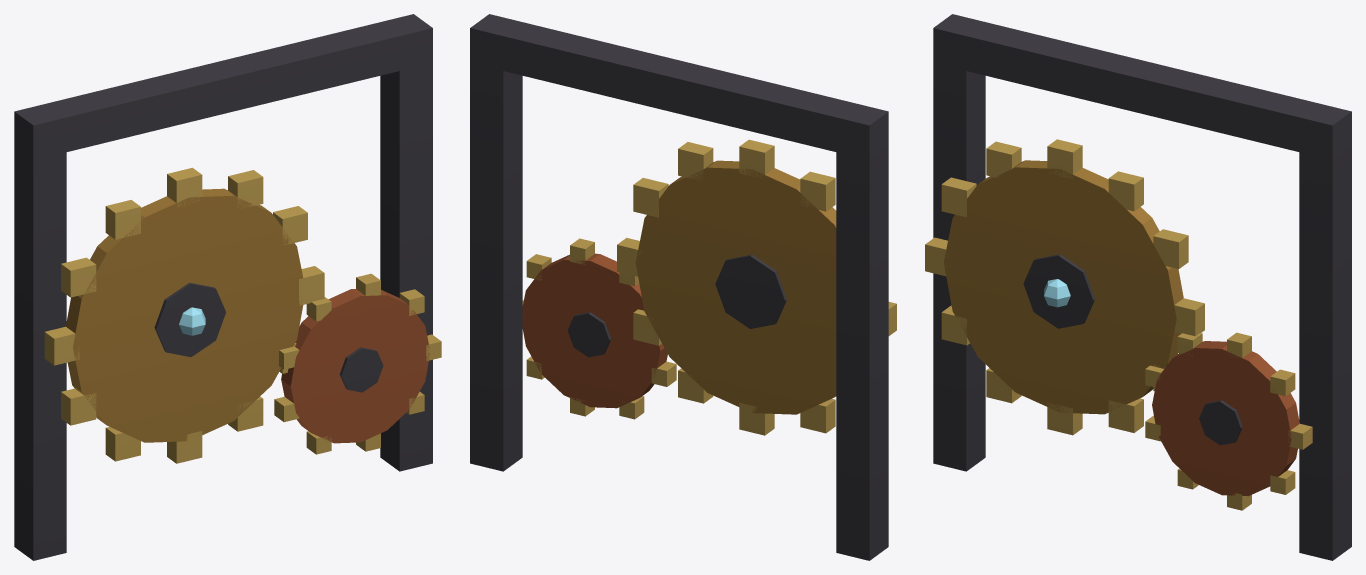
The model's file is gear_wall.glb.
3 views of the same model, side by side, from view 1: azimuth 30°, elevation 25°; view 2: azimuth 150°, elevation 25°; view 3: azimuth 330°, elevation 25° (orthographic).
Parts seen in each view (by area): view 1: gear_wall; view 2: gear_wall; view 3: gear_wall.
Boxes of the visible parts, <box> form: gear_wall: <box>14,14,441,560</box>; gear_wall: <box>470,14,896,560</box>; gear_wall: <box>925,14,1351,560</box>.
Size of the model in its own units: 2.4 by 2.5 by 0.4493.
